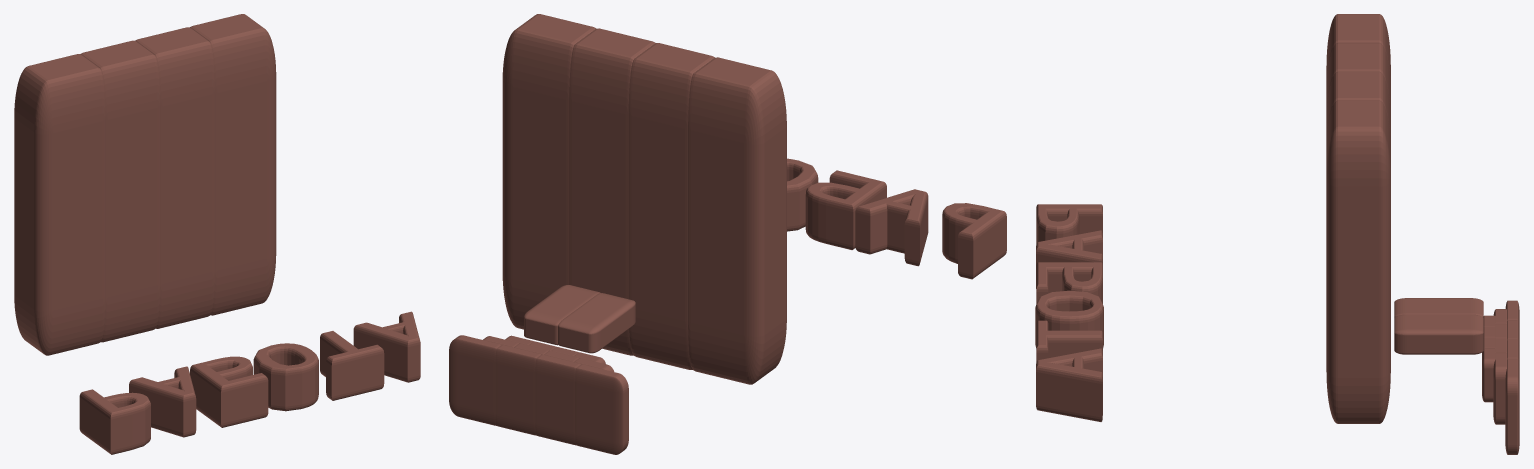
File: tinker.obj
3 views of the same model, side by side, from view 1: azimuth 30°, elevation 25°; view 2: azimuth 150°, elevation 25°; view 3: azimuth 270°, elevation 25° (orthographic). The views are drawn at different scales.
Parts seen in each view (by area): view 1: obj_0; view 2: obj_0; view 3: obj_0.
Boxes of the visible parts, x1,y1,x2,y2 form: obj_0: [14, 14, 420, 454]; obj_0: [449, 14, 1006, 454]; obj_0: [1035, 14, 1519, 454].
Size of the model in its own units: 61.2 by 54.07 by 71.44.
